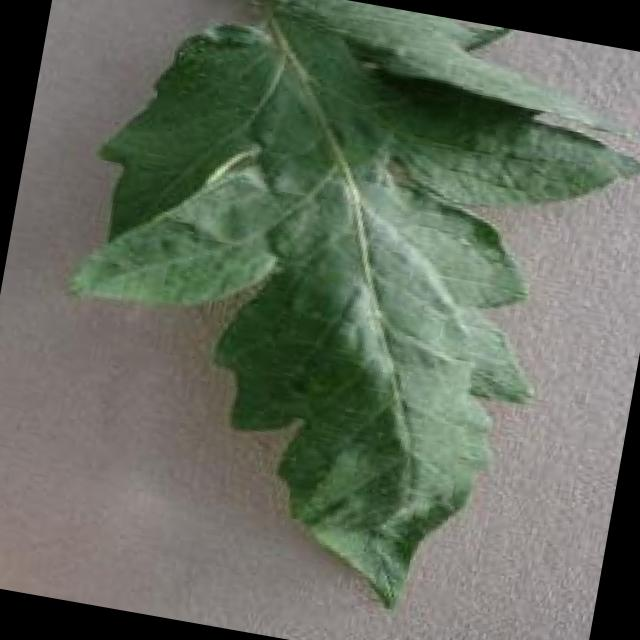Tomato_Late_Blight: (315, 126, 523, 403)
